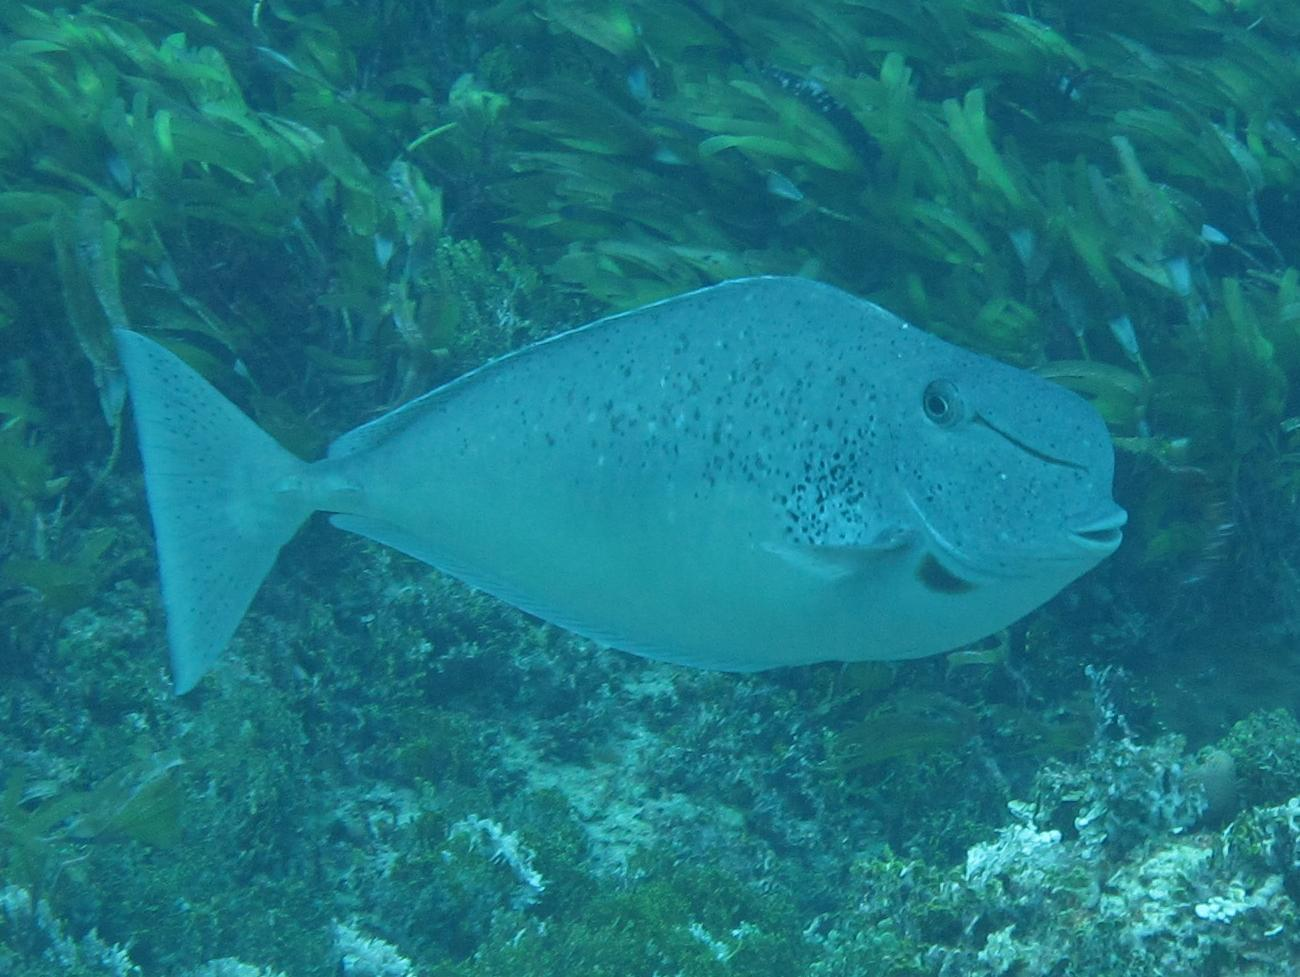Fish: (66, 222, 1182, 835)
